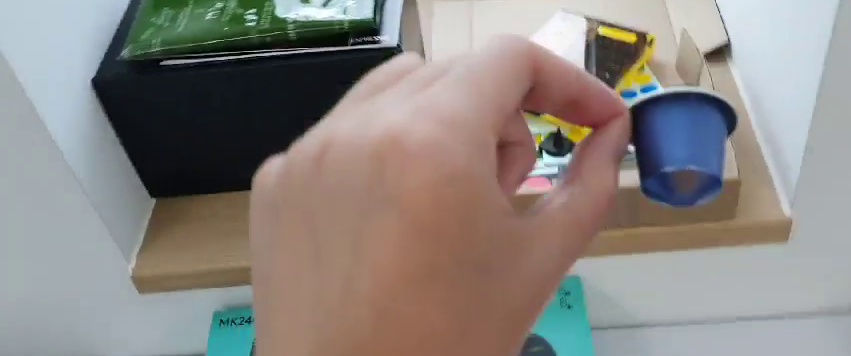capsule_7: (624, 84, 741, 208)
